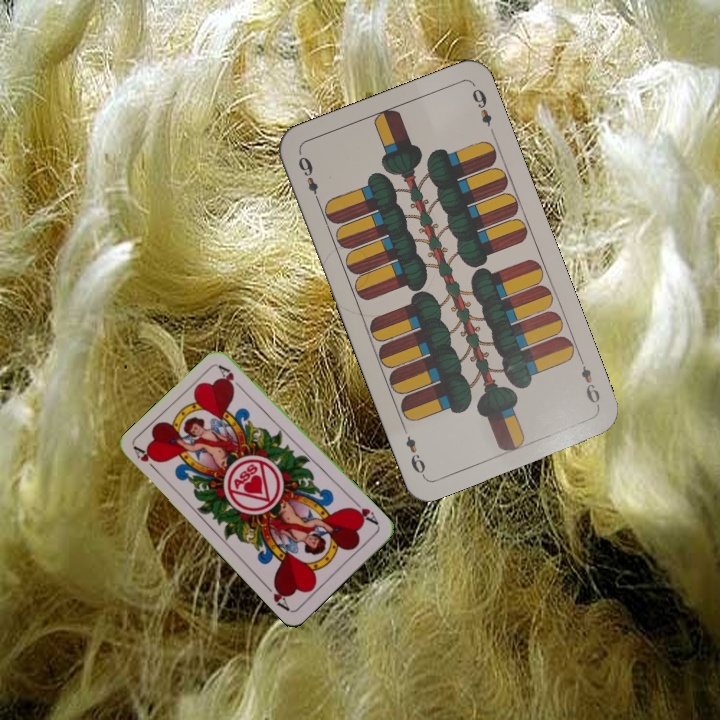E9: (575, 353, 603, 410), (294, 152, 323, 207)
HA: (346, 496, 381, 528), (130, 443, 162, 477)
